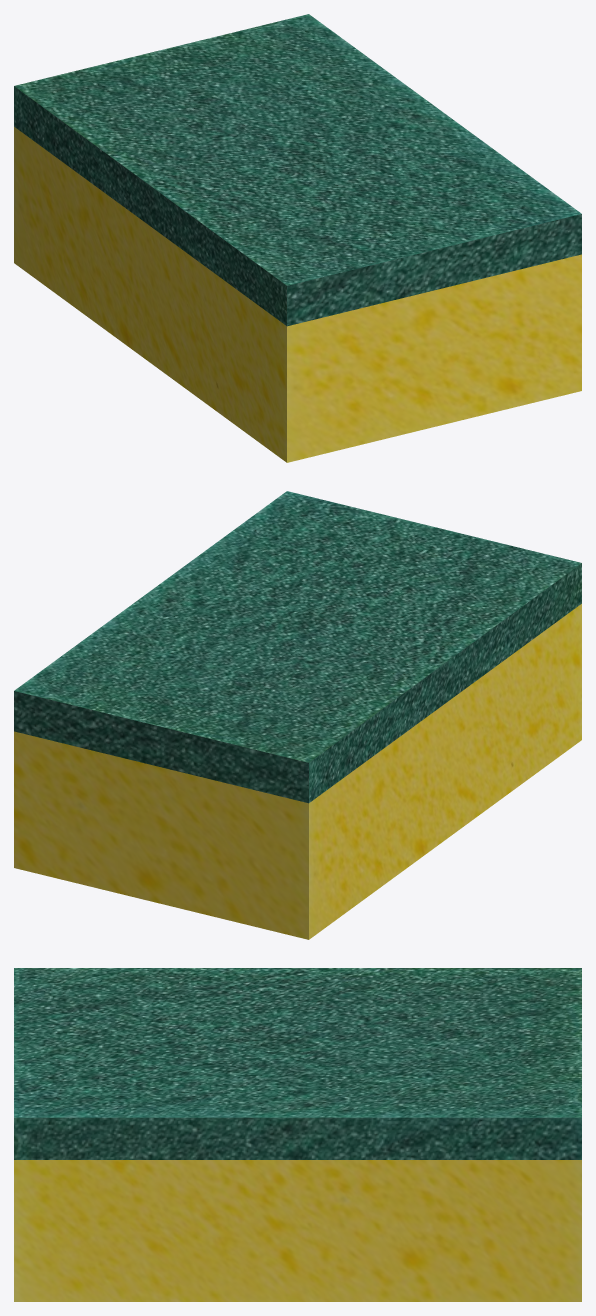
File: sponge.fbx
3 renders of one model, top to bottom at view 1: azimuth 30°, elevation 25°; view 2: azimuth 150°, elevation 25°; view 3: azimuth 270°, elevation 25°, orthographic. The views are drawn at different scales.
Parts seen in each view (by area): view 1: Cube.029; view 2: Cube.029; view 3: Cube.029.
Boxes of the visible parts, left/top/right/bottom form: Cube.029: left=14, top=14, right=581, bottom=462; Cube.029: left=14, top=491, right=581, bottom=939; Cube.029: left=14, top=968, right=581, bottom=1301.
Size of the model in its own units: 13.25 by 7.6 by 21.25.
1 material, 1 textured.
